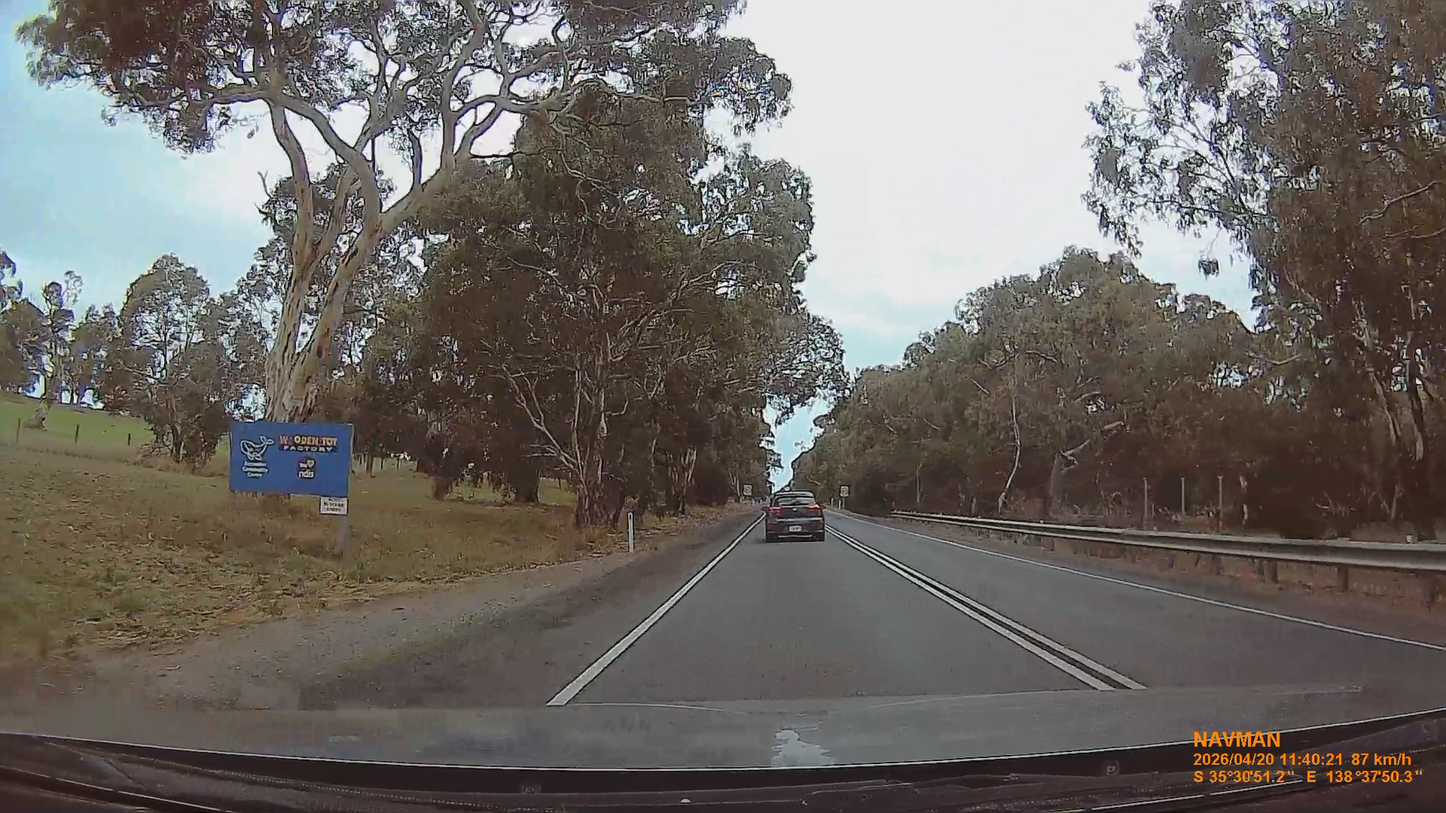road barriers: (891, 512, 1445, 573)
